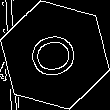O_E: (24, 27, 86, 83)
